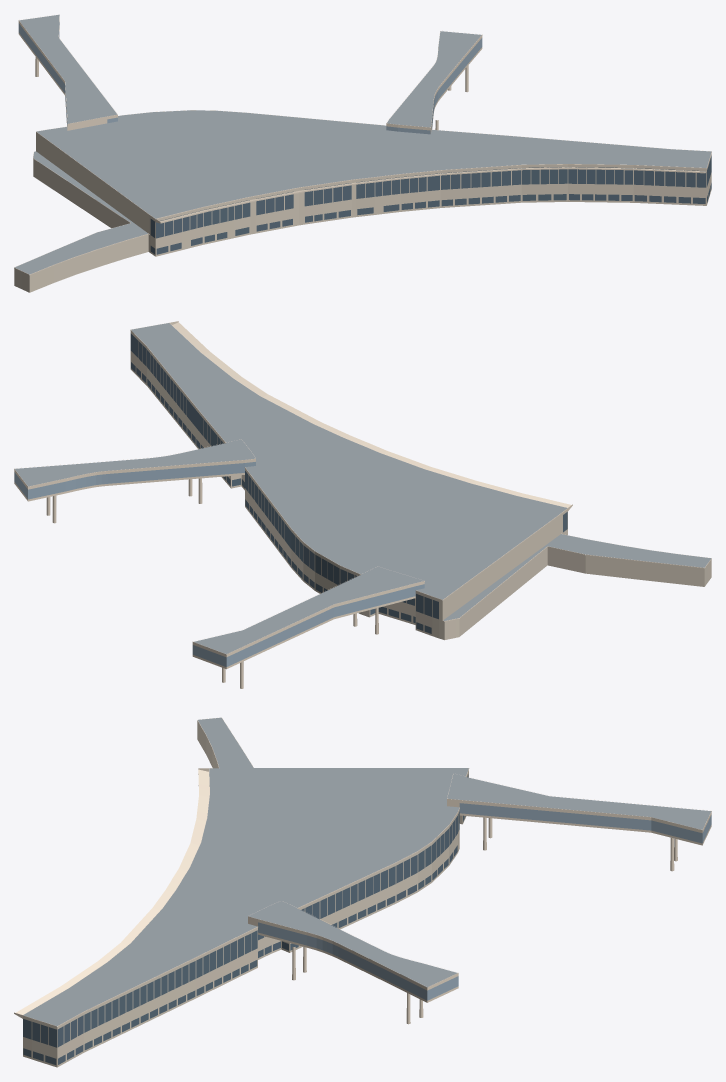
Rendered from nyc-lga-terminal-b.glb.
3 renders of one model, top to bottom at view 1: azimuth 30°, elevation 25°; view 2: azimuth 150°, elevation 25°; view 3: azimuth 270°, elevation 25°, orthographic. The views are drawn at different scales.
Parts seen in each view (by area): view 1: LaGuardia Airport Terminal B; view 2: LaGuardia Airport Terminal B; view 3: LaGuardia Airport Terminal B.
Boxes of the visible parts, x1,y1,x2,y2 form: LaGuardia Airport Terminal B: (14,14,711,292); LaGuardia Airport Terminal B: (14,321,711,688); LaGuardia Airport Terminal B: (14,717,711,1067).
Bounding box in the file's own units: 430 × 29.57 × 384.
